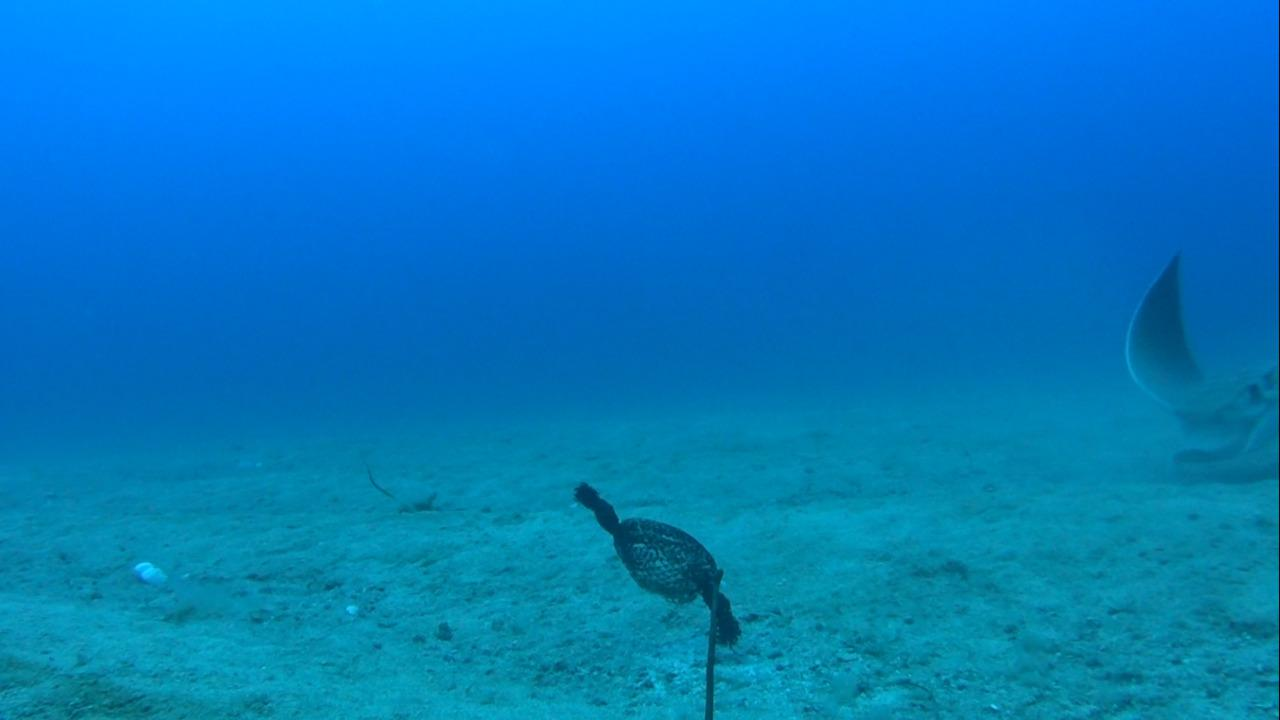myliobatis: (1114, 245, 1279, 490)
